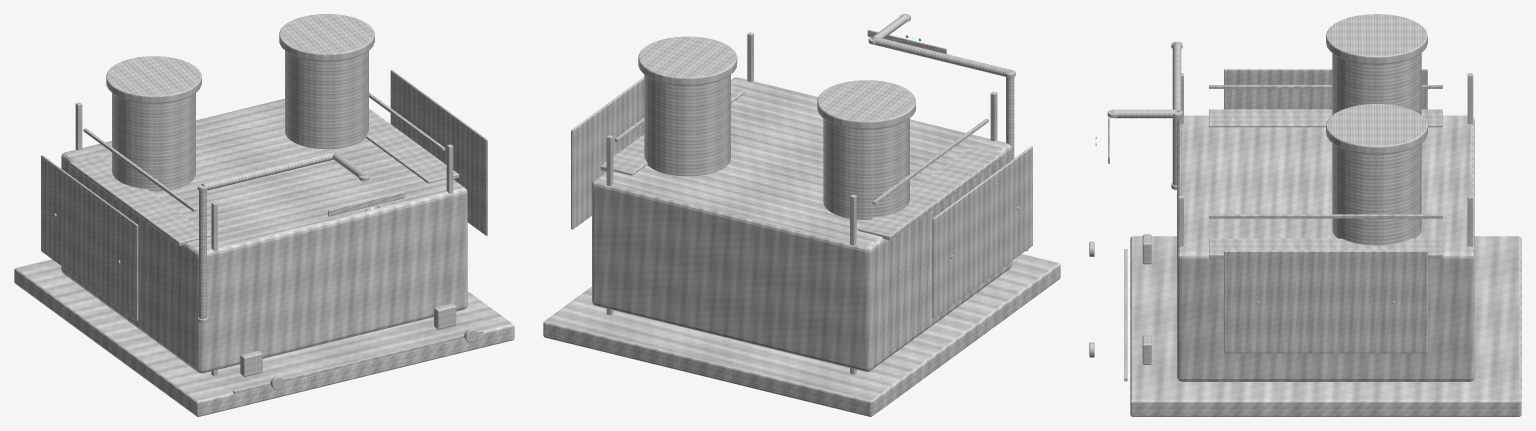
Rendered from oil_extractor_variant_c.glb.
3 views of the same model, side by side, from view 1: azimuth 30°, elevation 25°; view 2: azimuth 150°, elevation 25°; view 3: azimuth 270°, elevation 25° (orthographic). The views are drawn at different scales.
Parts seen in each view (by area): view 1: Industrial lower housing.002, Foundation skid.002, Side access panel.004, Process vessel.005, Process vessel.004, Side access panel.005, Vessel cap.004, Vessel cap.005, Service platform.004, Service platform.005, Process pipe.007, Amber safety sill.003 (+5 smaller); view 2: Industrial lower housing.002, Foundation skid.002, Side access panel.004, Process vessel.005, Process vessel.004, Side access panel.005, Vessel cap.005, Vessel cap.004, Service platform.004, Process pipe.007, Service platform.005, Safety rail.004 (+1 smaller); view 3: Industrial lower housing.002, Foundation skid.002, Side access panel.005, Process vessel.005, Side access panel.004, Vessel cap.004, Vessel cap.005, Process vessel.004, Service platform.005, Service platform.004, Safety rail.005, Process pipe.007 (+3 smaller).
Boxes of the visible parts, x1,y1,x2,y2 form: Industrial lower housing.002: [61, 98, 467, 373]; Foundation skid.002: [14, 259, 514, 416]; Side access panel.004: [41, 155, 138, 320]; Process vessel.005: [285, 51, 368, 149]; Process vessel.004: [112, 93, 195, 191]; Side access panel.005: [390, 70, 487, 235]; Vessel cap.004: [106, 56, 201, 103]; Vessel cap.005: [279, 14, 374, 61]; Service platform.004: [69, 155, 209, 246]; Service platform.005: [366, 108, 459, 183]; Process pipe.007: [201, 151, 333, 190]; Amber safety sill.003: [233, 330, 483, 393]; Industrial lower housing.002: [592, 77, 1011, 371]; Foundation skid.002: [543, 254, 1060, 416]; Side access panel.004: [932, 146, 1032, 317]; Process vessel.005: [644, 74, 730, 176]; Process vessel.004: [823, 118, 909, 219]; Side access panel.005: [571, 77, 644, 229]; Vessel cap.005: [638, 36, 737, 85]; Vessel cap.004: [817, 80, 915, 129]; Service platform.004: [858, 146, 1003, 240]; Process pipe.007: [873, 37, 1011, 76]; Service platform.005: [600, 87, 745, 175]; Safety rail.004: [872, 118, 988, 204]; Industrial lower housing.002: [1177, 115, 1474, 381]; Foundation skid.002: [1130, 236, 1521, 416]; Side access panel.005: [1224, 250, 1427, 353]; Process vessel.005: [1332, 143, 1421, 245]; Side access panel.004: [1224, 69, 1427, 109]; Vessel cap.004: [1326, 14, 1427, 64]; Vessel cap.005: [1326, 104, 1427, 154]; Process vessel.004: [1332, 53, 1421, 115]; Service platform.005: [1209, 238, 1442, 258]; Service platform.004: [1209, 109, 1442, 127]; Safety rail.005: [1209, 214, 1442, 218]; Process pipe.007: [1172, 42, 1181, 111].
Size of what is drawn, in the model's own units: 10.29 by 6.62 by 10.16.
Materials: 7 (7 with a texture image).
